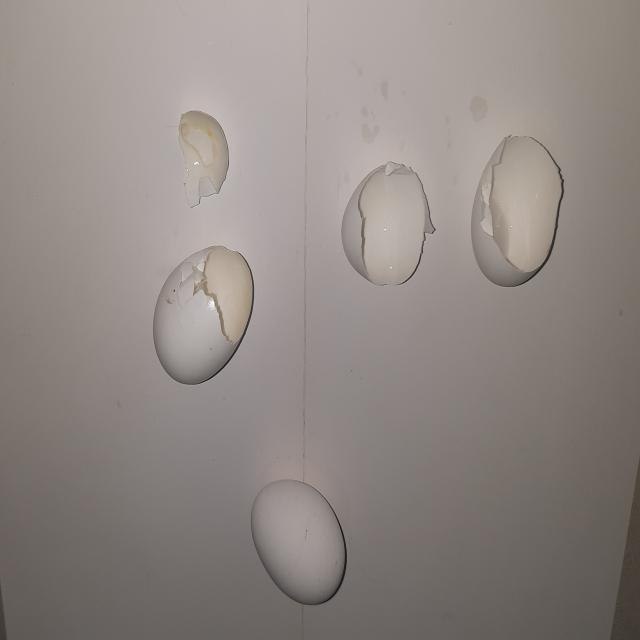egg shell: (150, 240, 258, 390), (468, 128, 566, 292), (247, 469, 349, 613), (338, 154, 436, 294), (173, 109, 242, 210)
